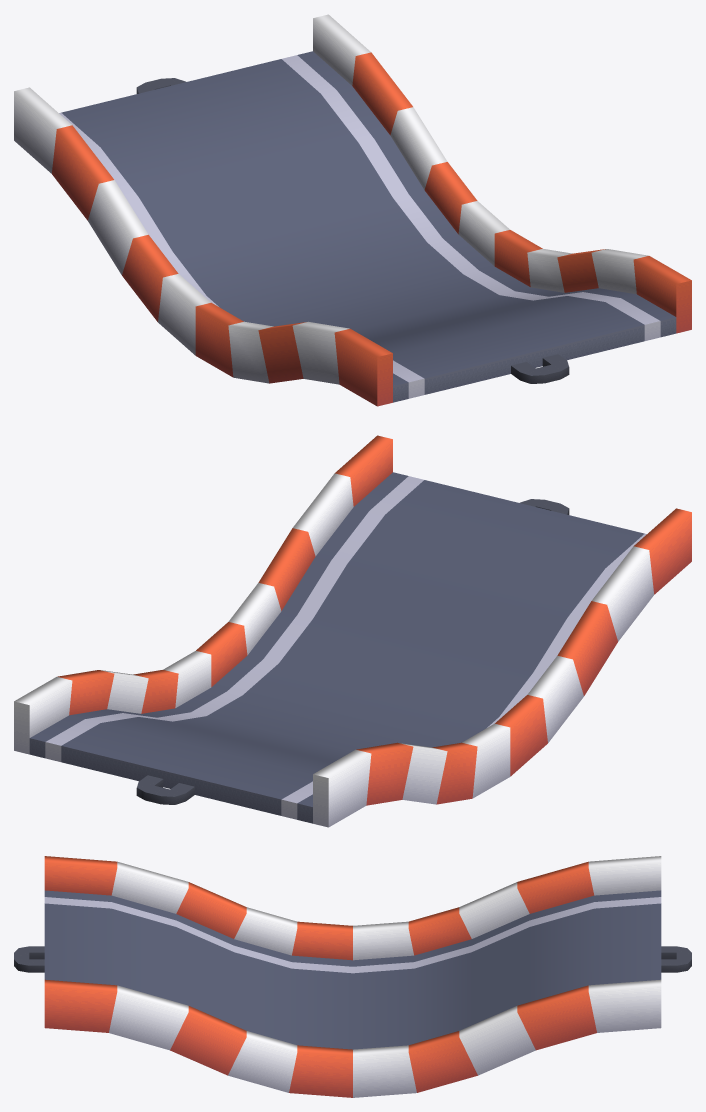
The model's file is track-road-wide-straight-bump-down.glb.
3 views of the same model, one above another, from view 1: azimuth 30°, elevation 25°; view 2: azimuth 150°, elevation 25°; view 3: azimuth 270°, elevation 25° (orthographic). The views are drawn at different scales.
Visible parts, largest first — view 1: track-road-wide-straight-bump-down; view 2: track-road-wide-straight-bump-down; view 3: track-road-wide-straight-bump-down.
Boxes of the visible parts, x1,y1,x2,y2 form: track-road-wide-straight-bump-down: (14, 14, 691, 406); track-road-wide-straight-bump-down: (14, 435, 691, 827); track-road-wide-straight-bump-down: (14, 856, 691, 1097).
Bounding box in the file's own units: 2 × 0.8 × 4.4.
1 material, 1 textured.
